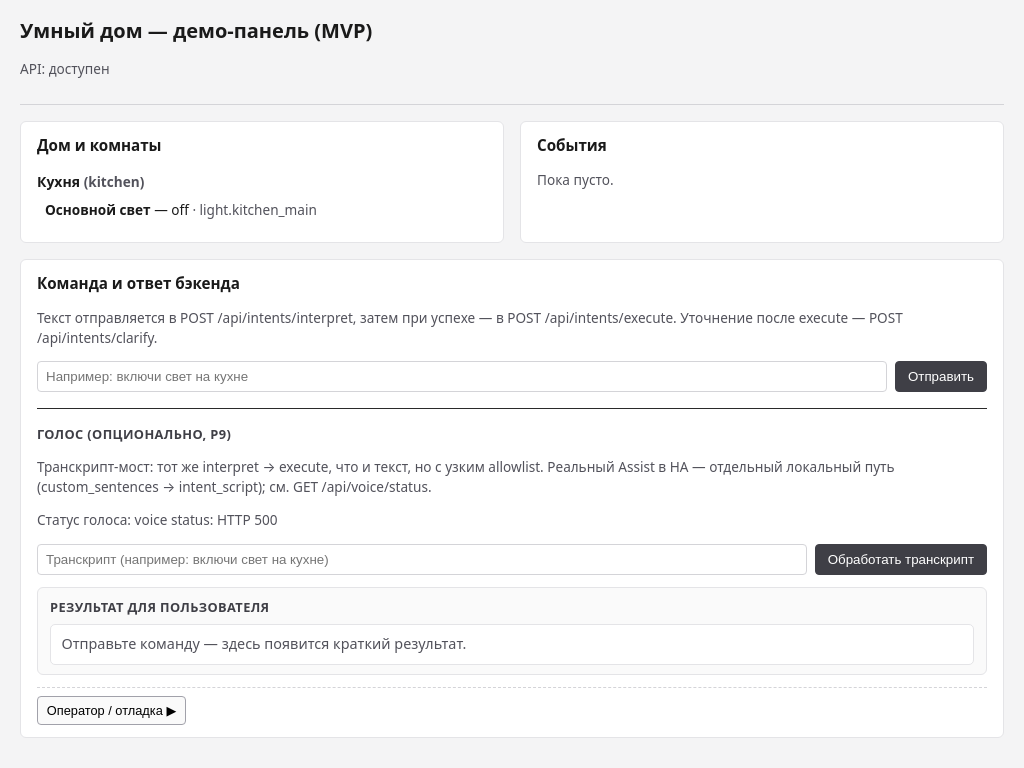
it: App P6b operator/debug › demo reset shows error when POST fails
The width and height of the screenshot is (1024, 768).
Expected: the element with test id "house-state" is shown, [37,172,317,219]
Click the button with test id "operator-debug-toggle": point(112, 710) [37,696,186,724]
(page scrolled)
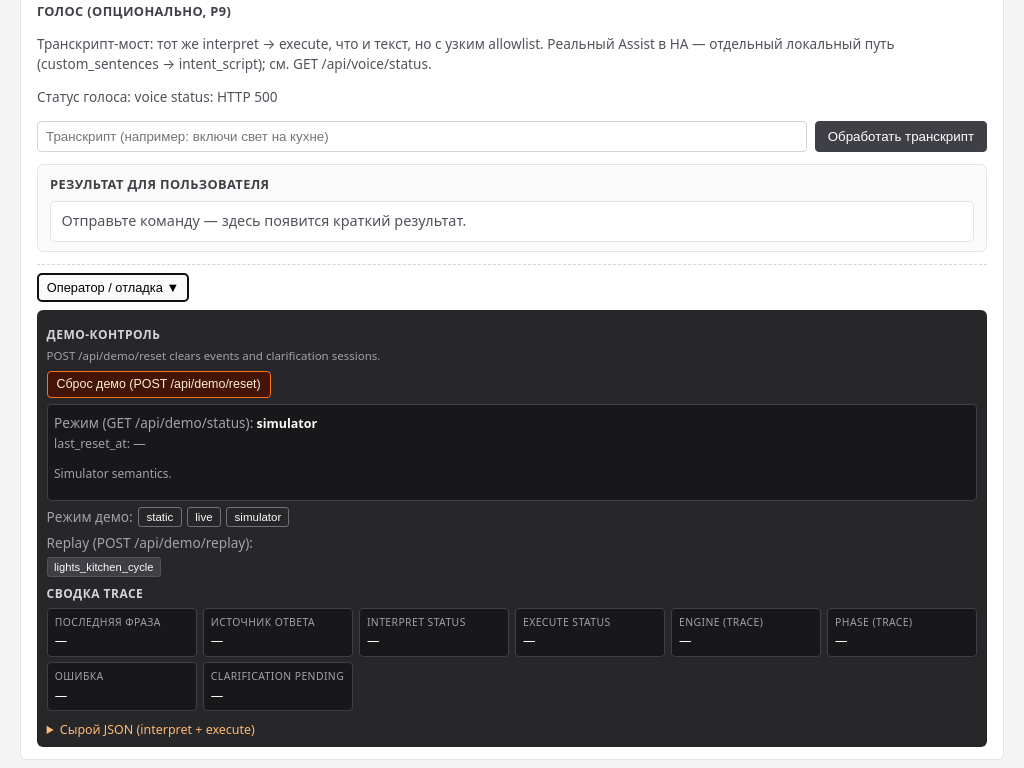
Click the button with test id "demo-reset-button": point(159, 384) [47,371,270,398]
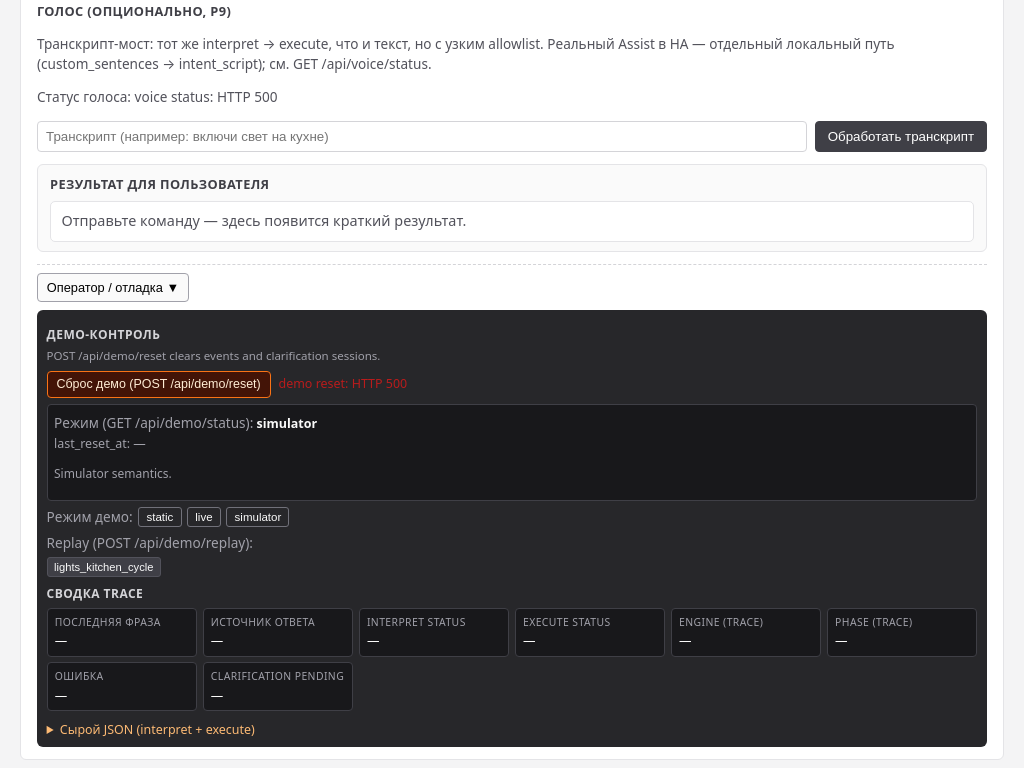
Expected: the text "demo reset: HTTP 500" is shown, [278,375,407,393]
